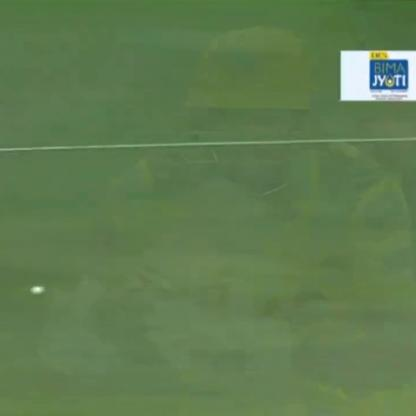ball: (29, 280, 56, 300)
